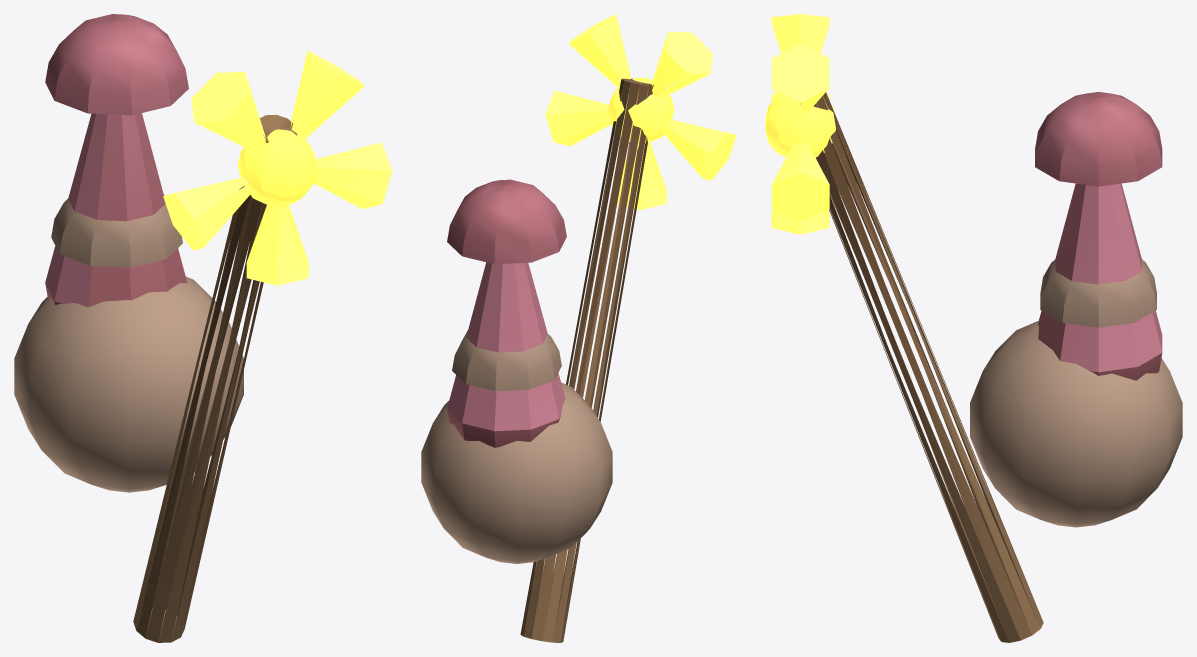
Rendered from girl-balloon-wand-armR.glb.
The picture shows the model from 3 angles, left to right: view 1: azimuth 30°, elevation 25°; view 2: azimuth 150°, elevation 25°; view 3: azimuth 270°, elevation 25°; orthographic projection. The views are drawn at different scales.
Visible parts, largest first — view 1: player_girl-balloon-wand:armR; view 2: player_girl-balloon-wand:armR; view 3: player_girl-balloon-wand:armR.
Part boxes in pixels (x1,y1,x2,y2): player_girl-balloon-wand:armR: (14,14,392,642); player_girl-balloon-wand:armR: (421,14,736,642); player_girl-balloon-wand:armR: (765,14,1182,642).
Size of the model in its own units: 0.1195 by 0.3609 by 0.2241.
